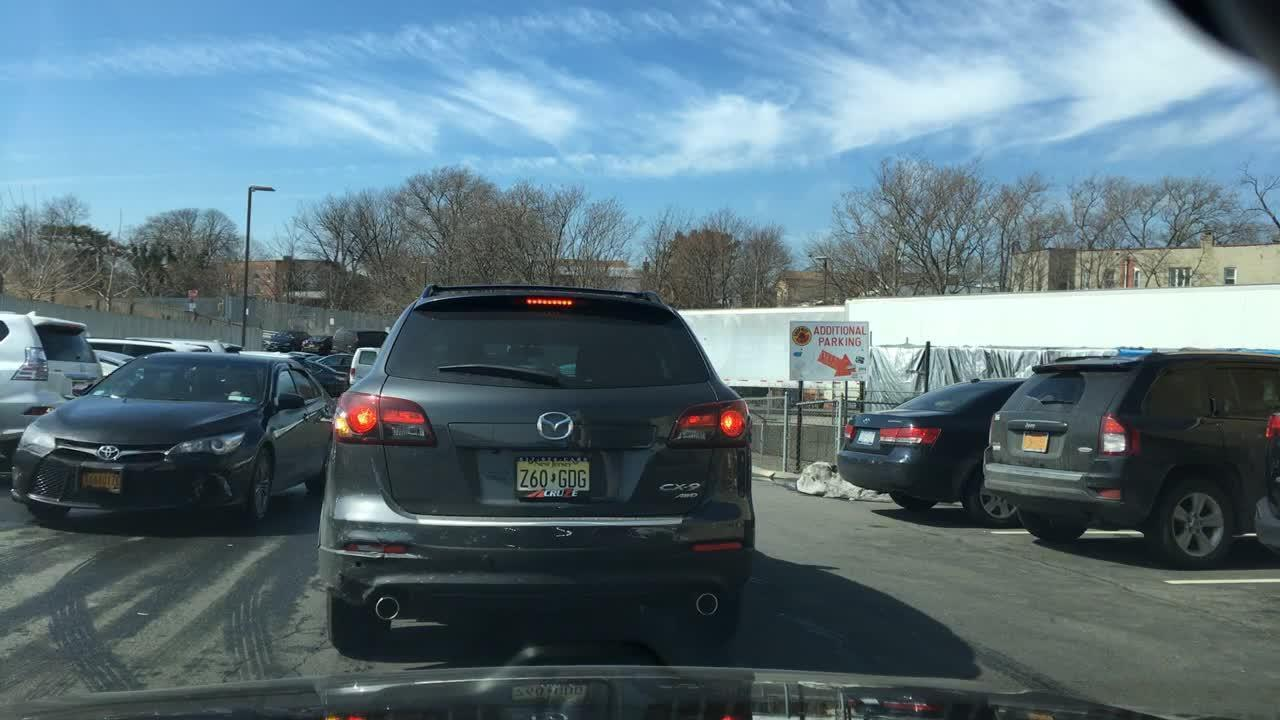Mazda: (538, 410, 576, 443)
Toyota: (90, 439, 124, 467), (1019, 416, 1041, 430)
